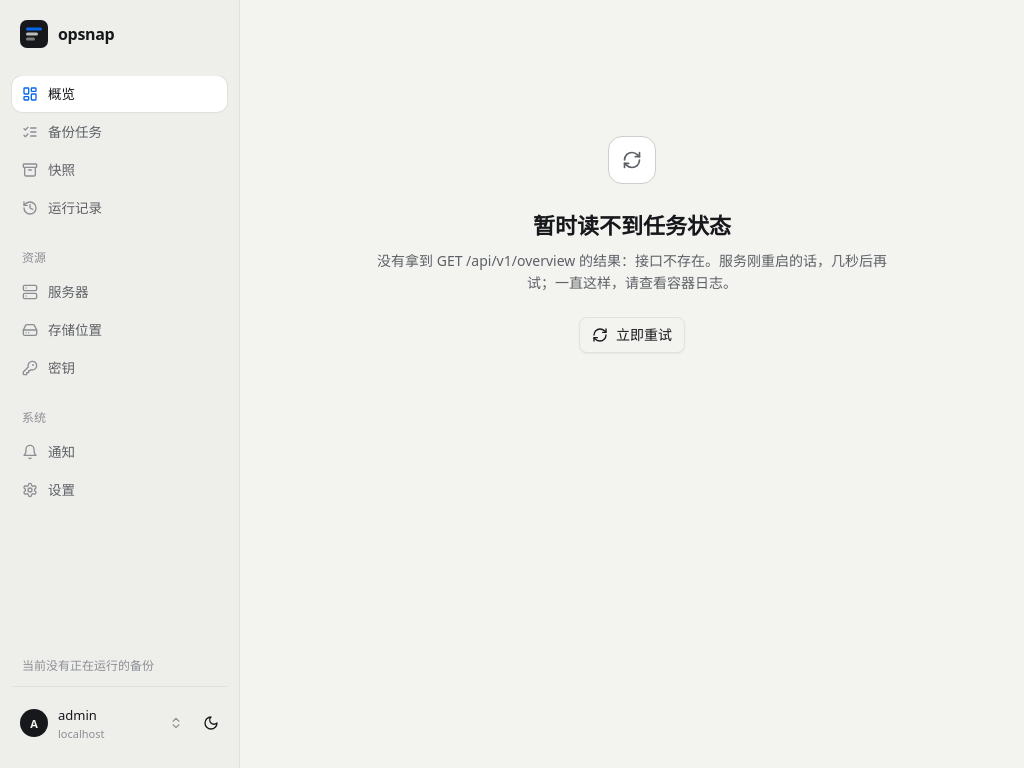
Test case: 面板外壳 › 账号菜单可以修改密码
Step 1. Click the button with aria-label "账号菜单" → [102, 723], box [12,699,191,748]
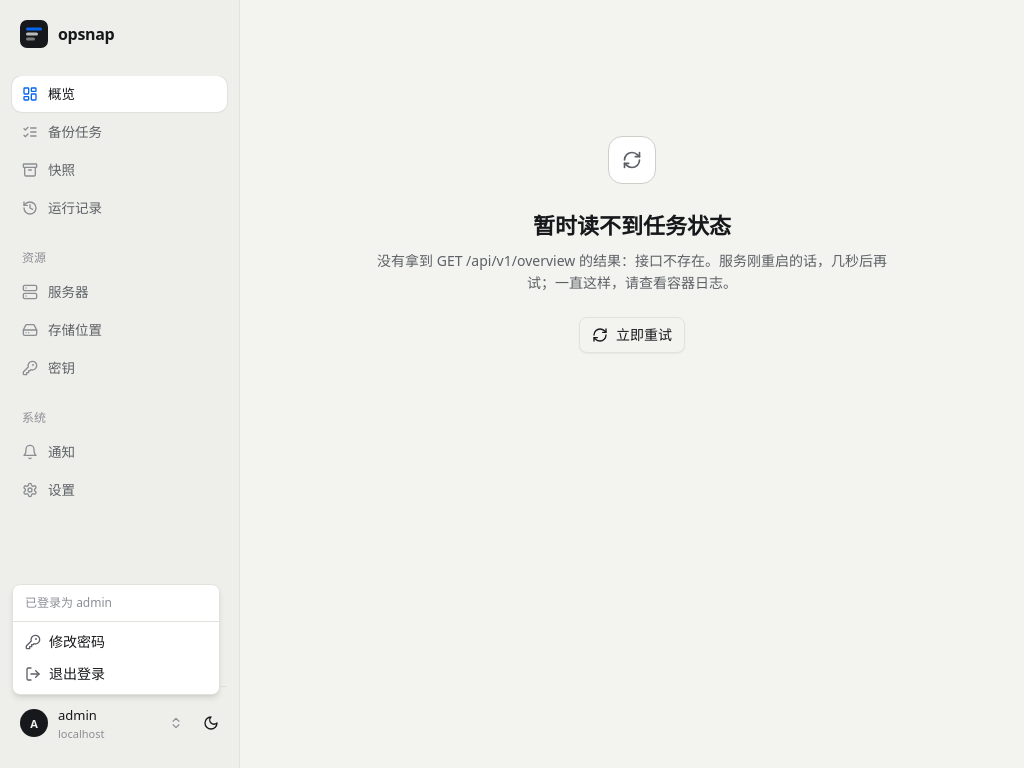
Step 2. Click the menu item "修改密码" → [65, 642], box [25,632,105,651]
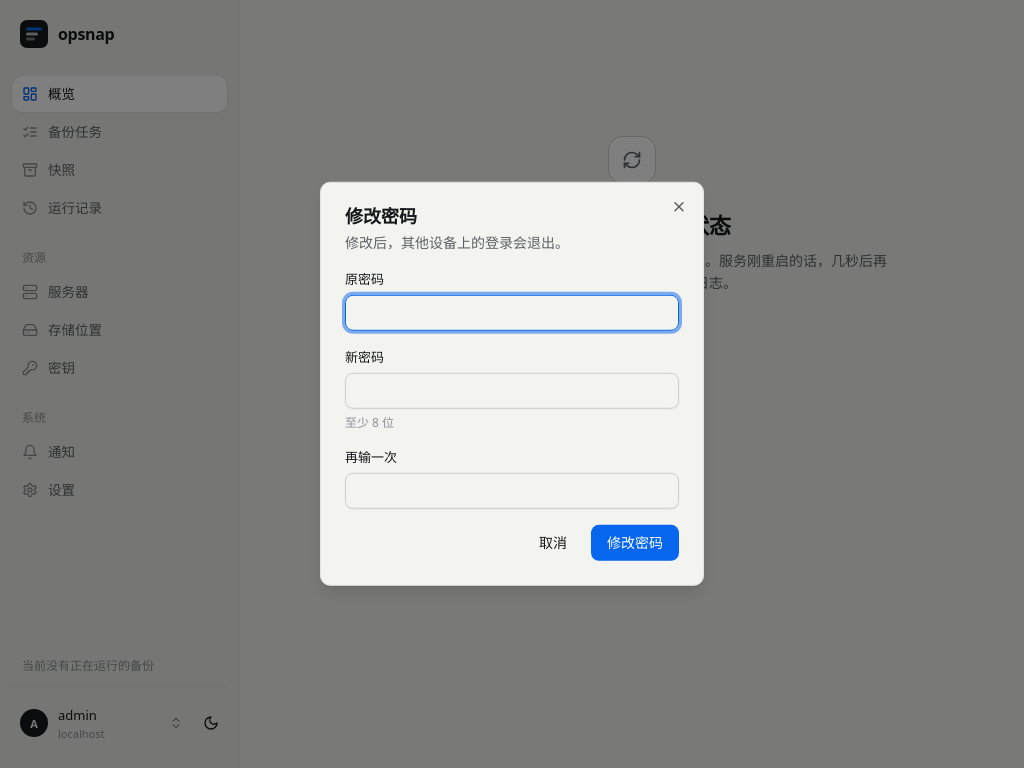
Step 3. Type "correct-horse" into the password field labelled "原密码" → [512, 313], box [345,295,679,331]
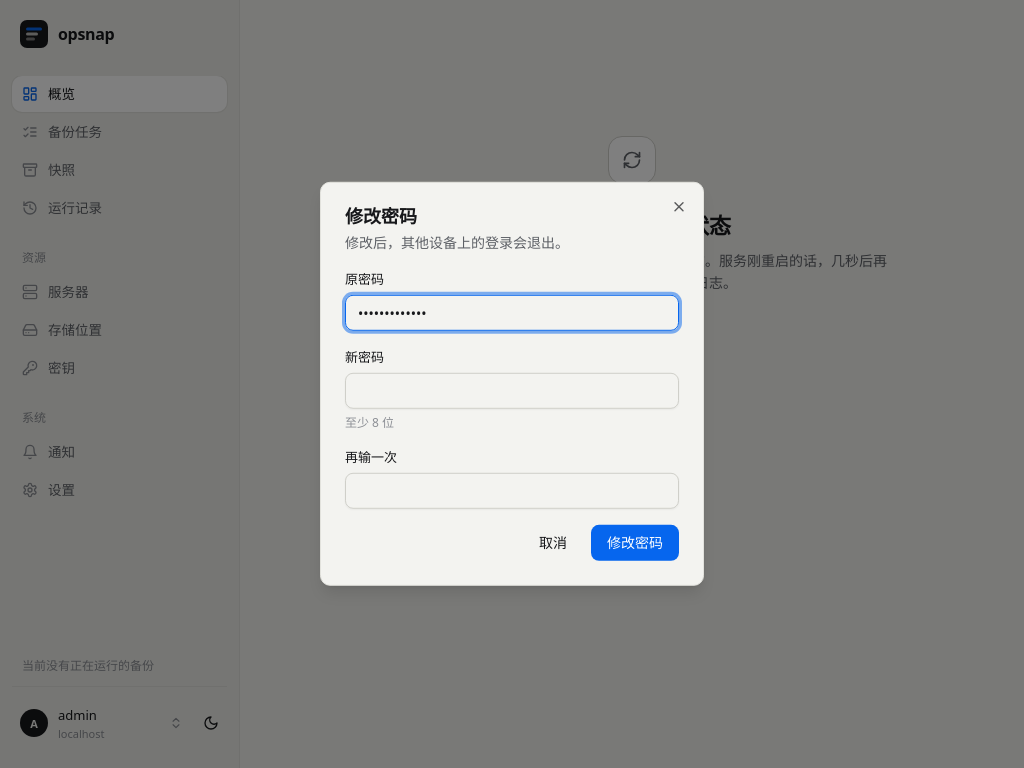
Step 4. Type "battery-staple" into the password field labelled "新密码" → [512, 391], box [345,373,679,409]
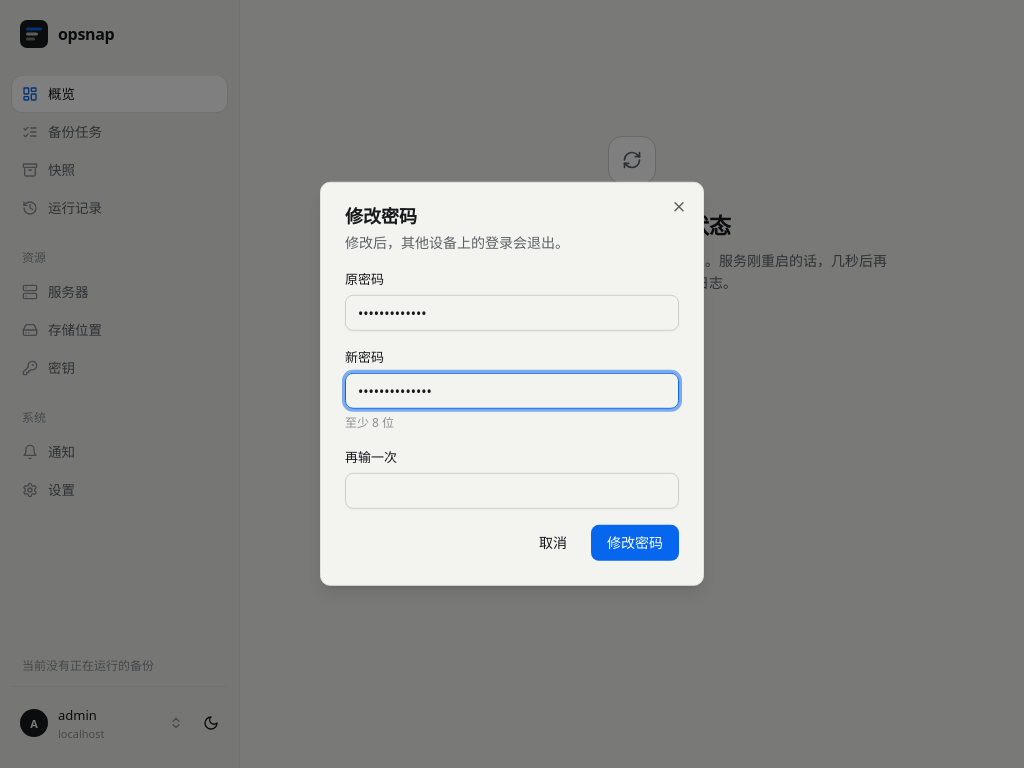
Step 5. Type "battery-staple" into the password field labelled "再输一次" → [512, 491], box [345,473,679,509]
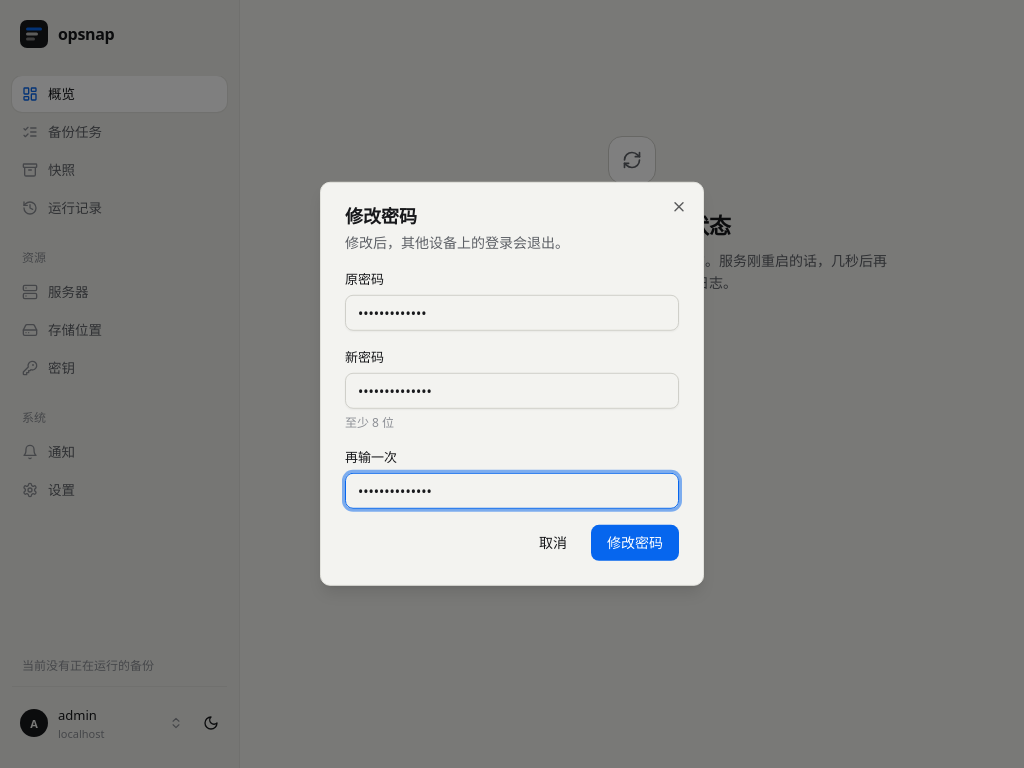
Step 6. Click the button "修改密码" → [635, 543], box [591,525,679,561]
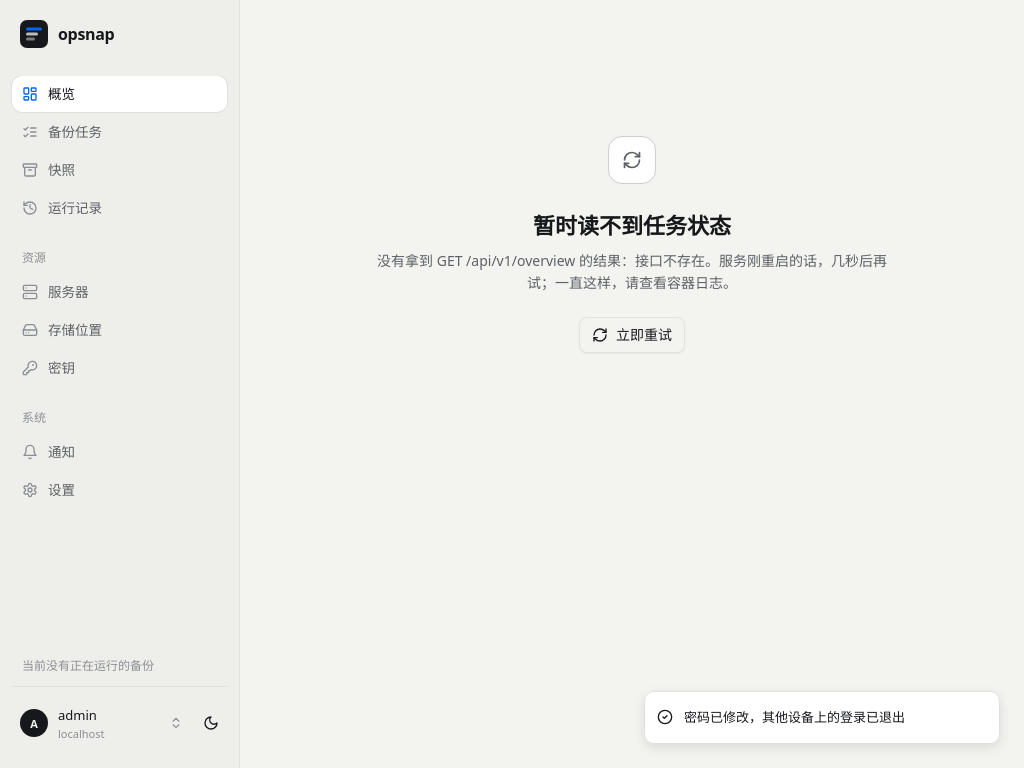
Expected: the heading "修改密码" is gone
